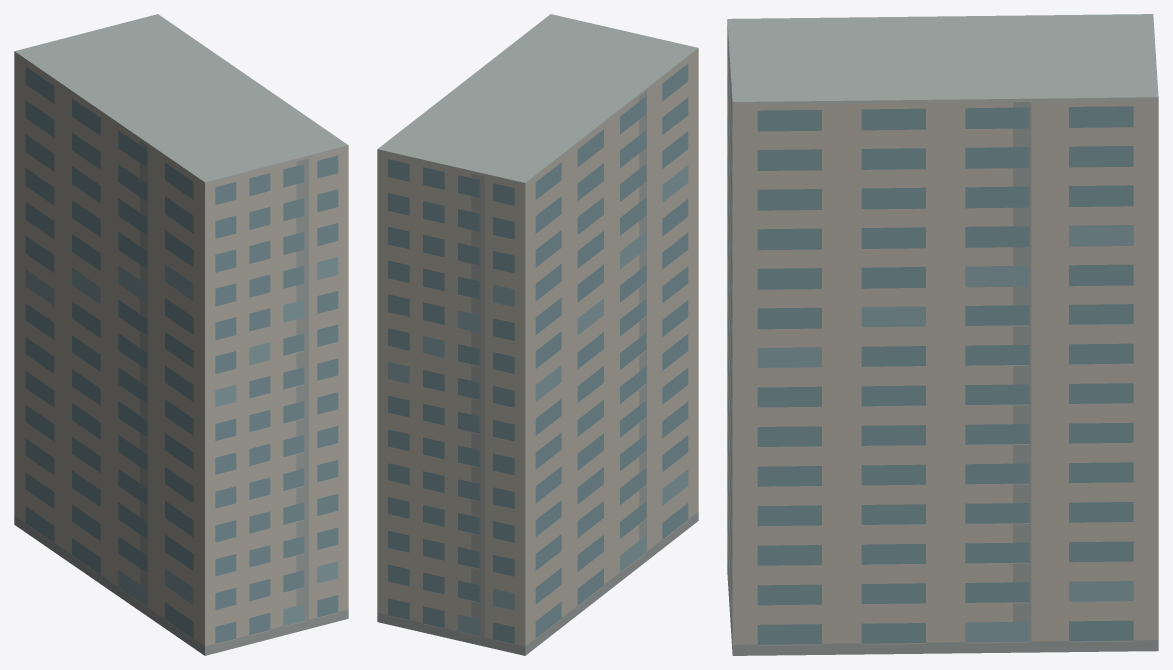
The model's file is residential-47680acb-5a20-400d-b281-391978a6806d.glb.
3 renders of one model, left to right at view 1: azimuth 30°, elevation 25°; view 2: azimuth 150°, elevation 25°; view 3: azimuth 270°, elevation 25°, orthographic. The views are drawn at different scales.
Parts seen in each view (by area): view 1: residential-47680acb-5a20-400d-b281-391978a6806d.tmp; view 2: residential-47680acb-5a20-400d-b281-391978a6806d.tmp; view 3: residential-47680acb-5a20-400d-b281-391978a6806d.tmp.
Part boxes in pixels (box(x1,y1,x2,y2)): residential-47680acb-5a20-400d-b281-391978a6806d.tmp: box(14, 14, 348, 655); residential-47680acb-5a20-400d-b281-391978a6806d.tmp: box(377, 14, 698, 655); residential-47680acb-5a20-400d-b281-391978a6806d.tmp: box(727, 14, 1158, 655).
Bounding box in the file's own units: 13.65 × 40 × 28.23.
